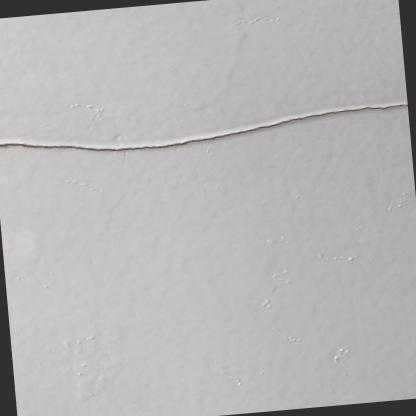crack: (0, 102, 408, 151)
